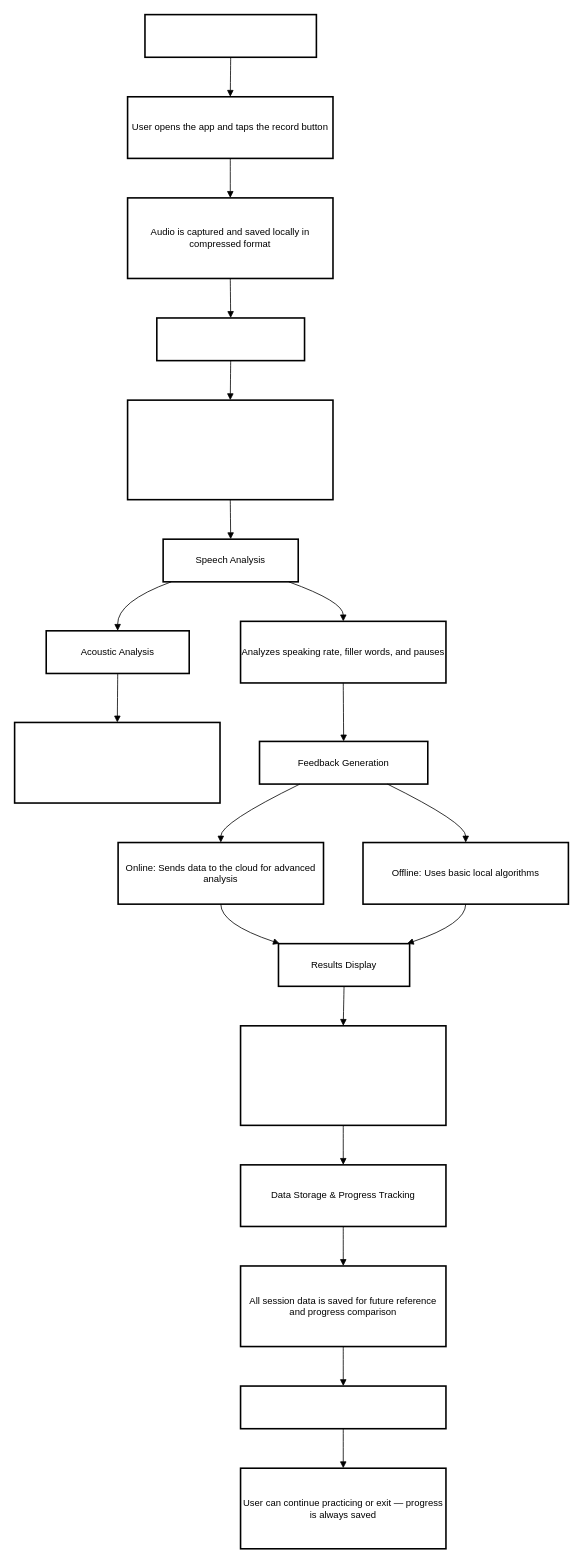
Image size: 582x1563. Some labels were removed from this diagram. The centre of each missing label's shape, as x and y in pixels:
Evaluates pitch, volume, and rhythm to assess delivery and confidence: point (116, 762)
Launch & Record User: point (230, 35)
Live Transcription: point (230, 339)
Session Continuation or Exit: point (342, 1407)
Speech is converted to text in real time using Android's Speech-to-Text API: point (229, 449)
User sees metrics, suggestions, and visual feedback on speaking patterns: point (342, 1075)
